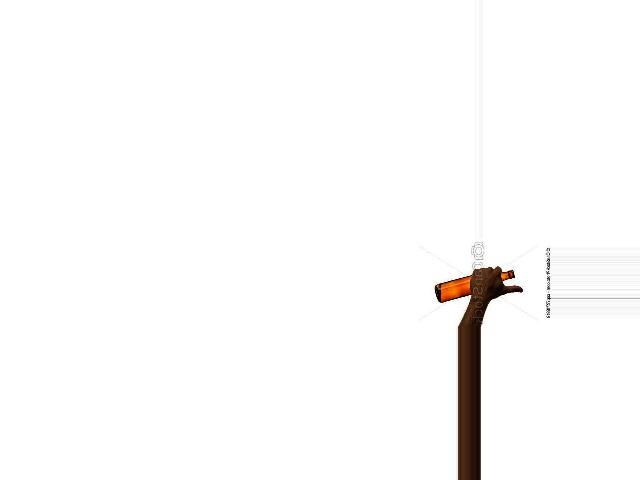beer: (434, 270, 514, 303)
